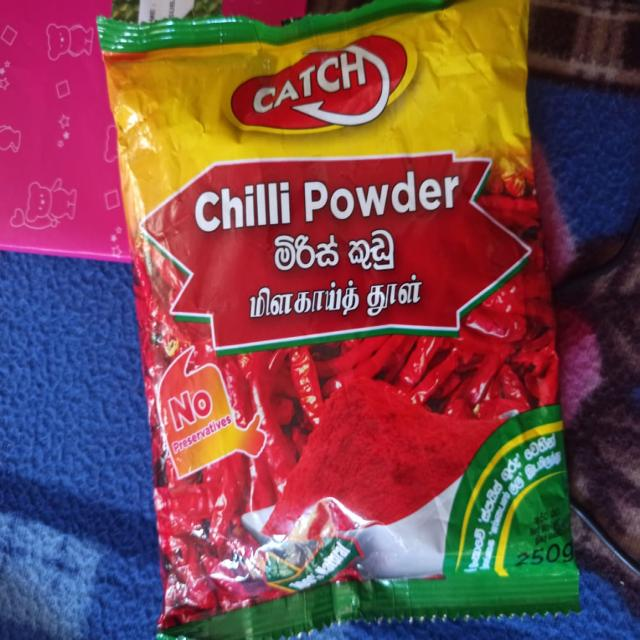Chilli Powder: (82, 0, 618, 635)
